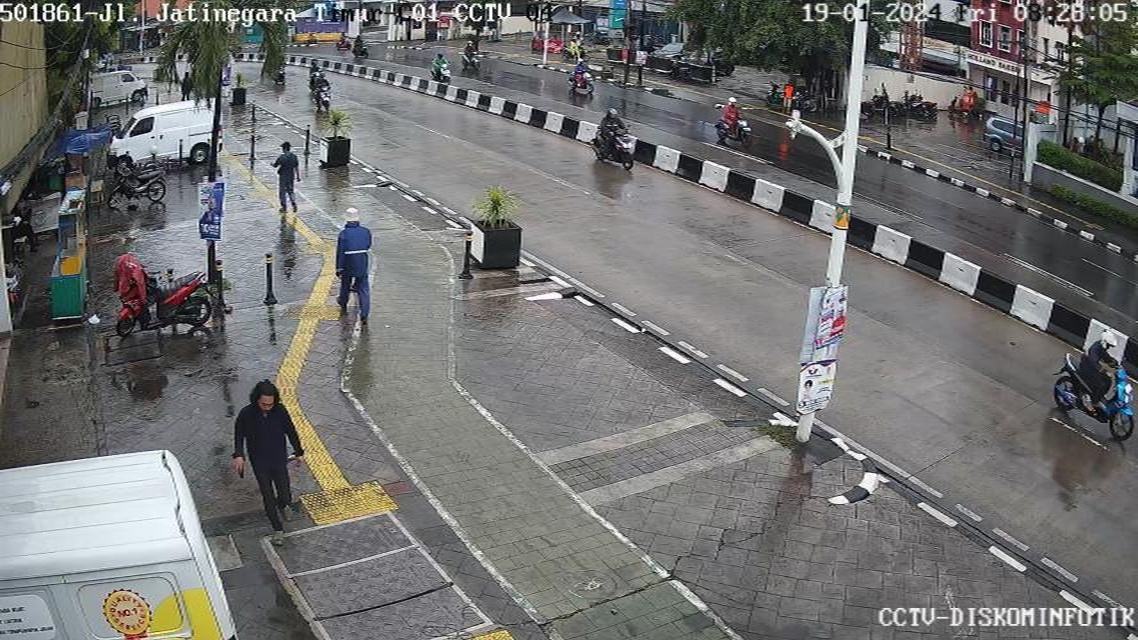Gerobak: (27, 191, 116, 337)
